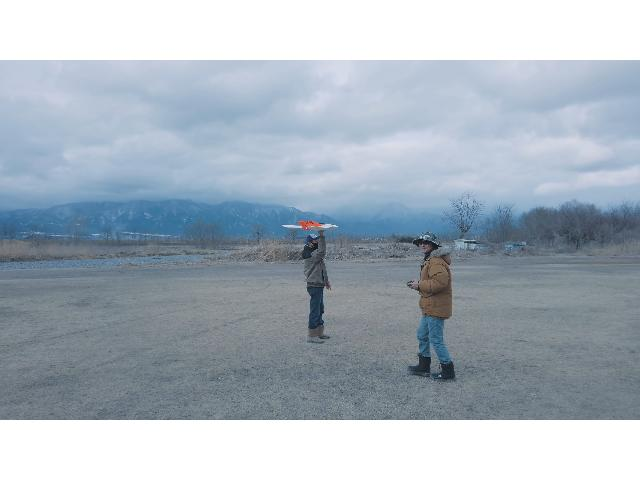Anti-Drone: (281, 217, 339, 233)
